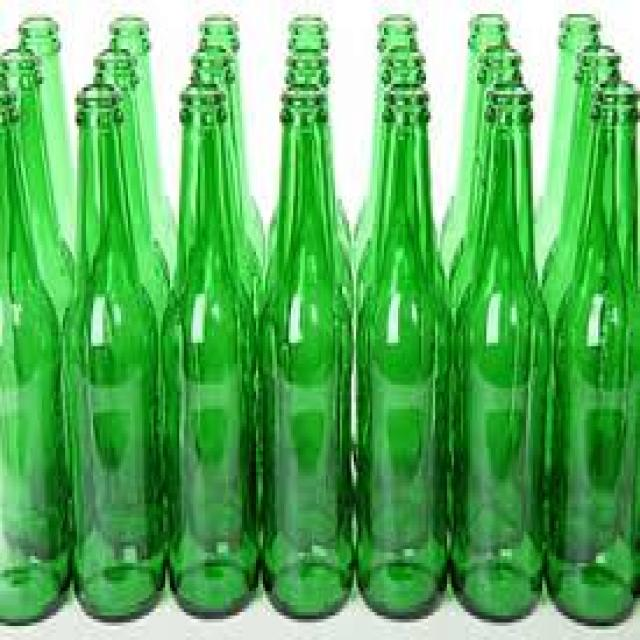Glass: (60, 75, 169, 627), (447, 86, 556, 631), (159, 84, 264, 621), (545, 81, 640, 631), (262, 84, 358, 621), (357, 96, 449, 624), (0, 86, 69, 625)
